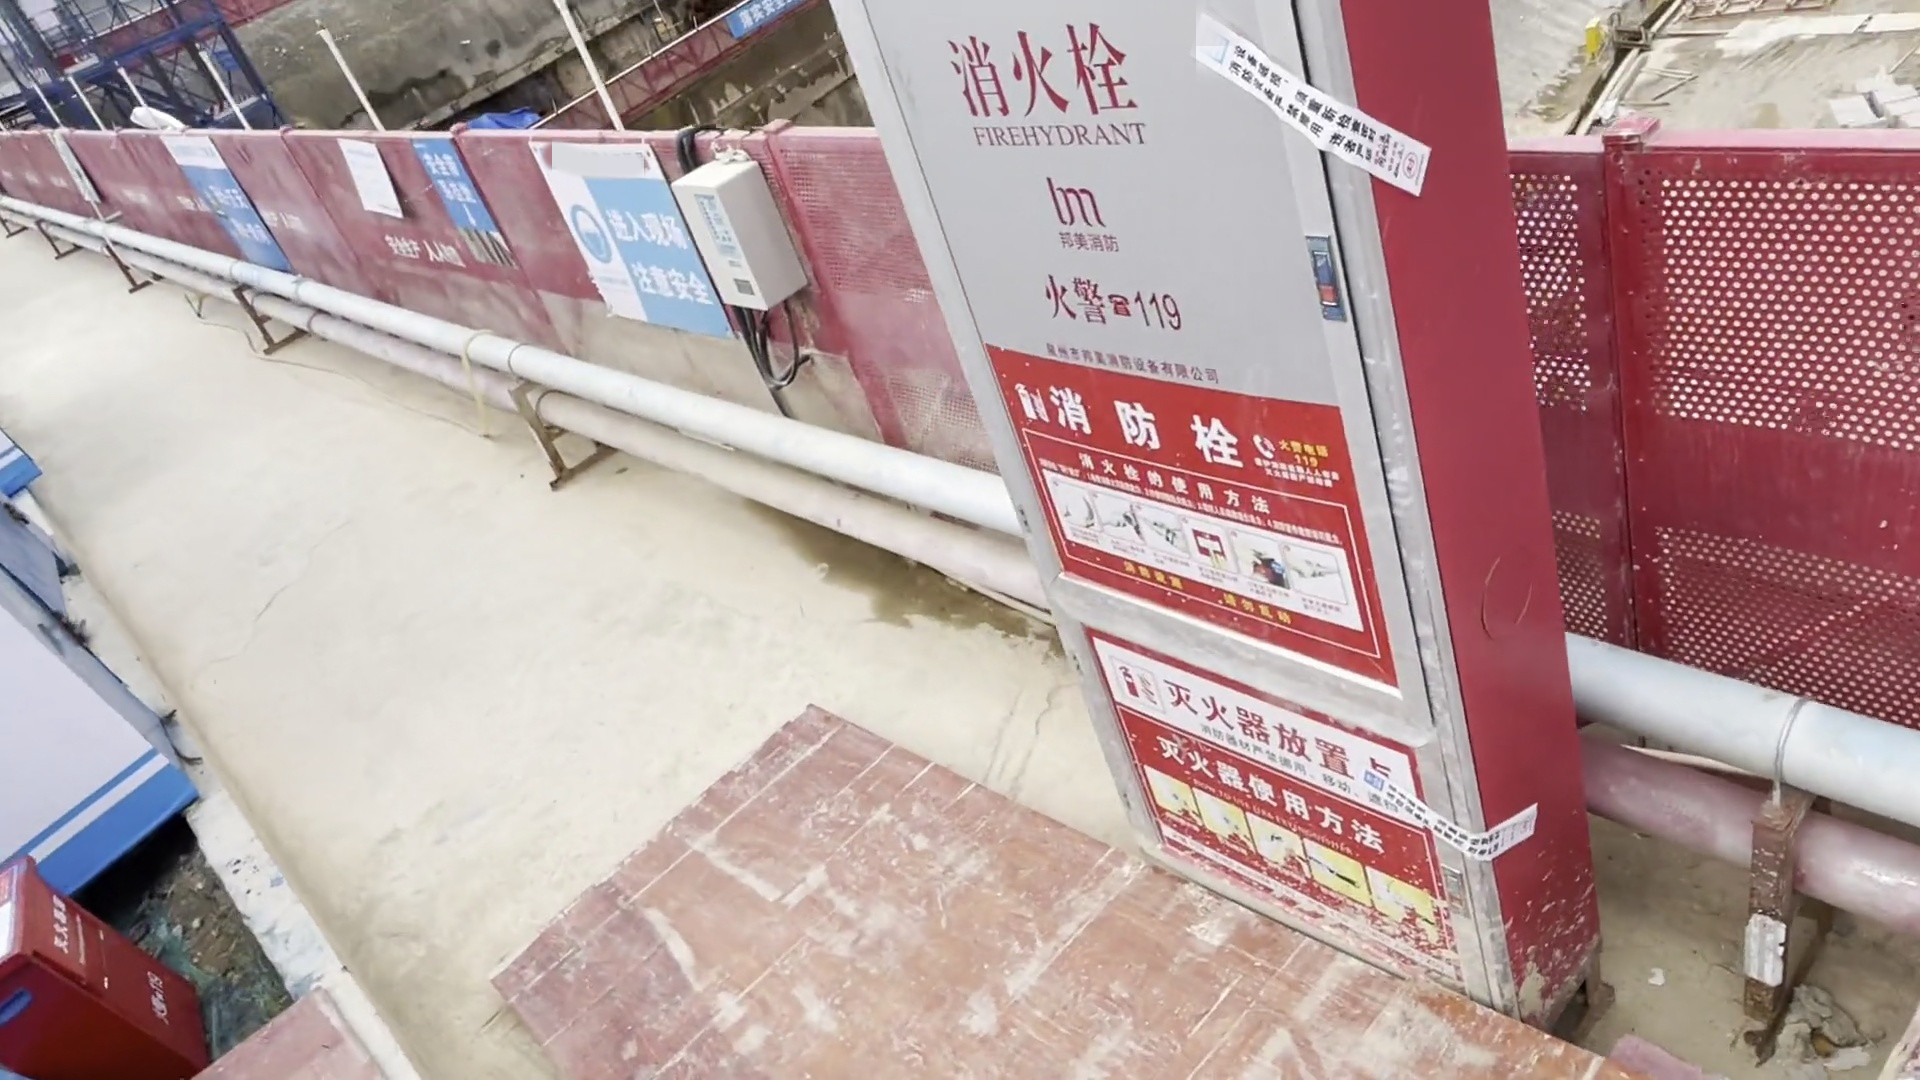board: (481, 649, 1080, 1080)
fence: (1534, 127, 1920, 735)
slogan: (520, 135, 742, 345), (160, 123, 307, 295), (309, 131, 502, 243)
